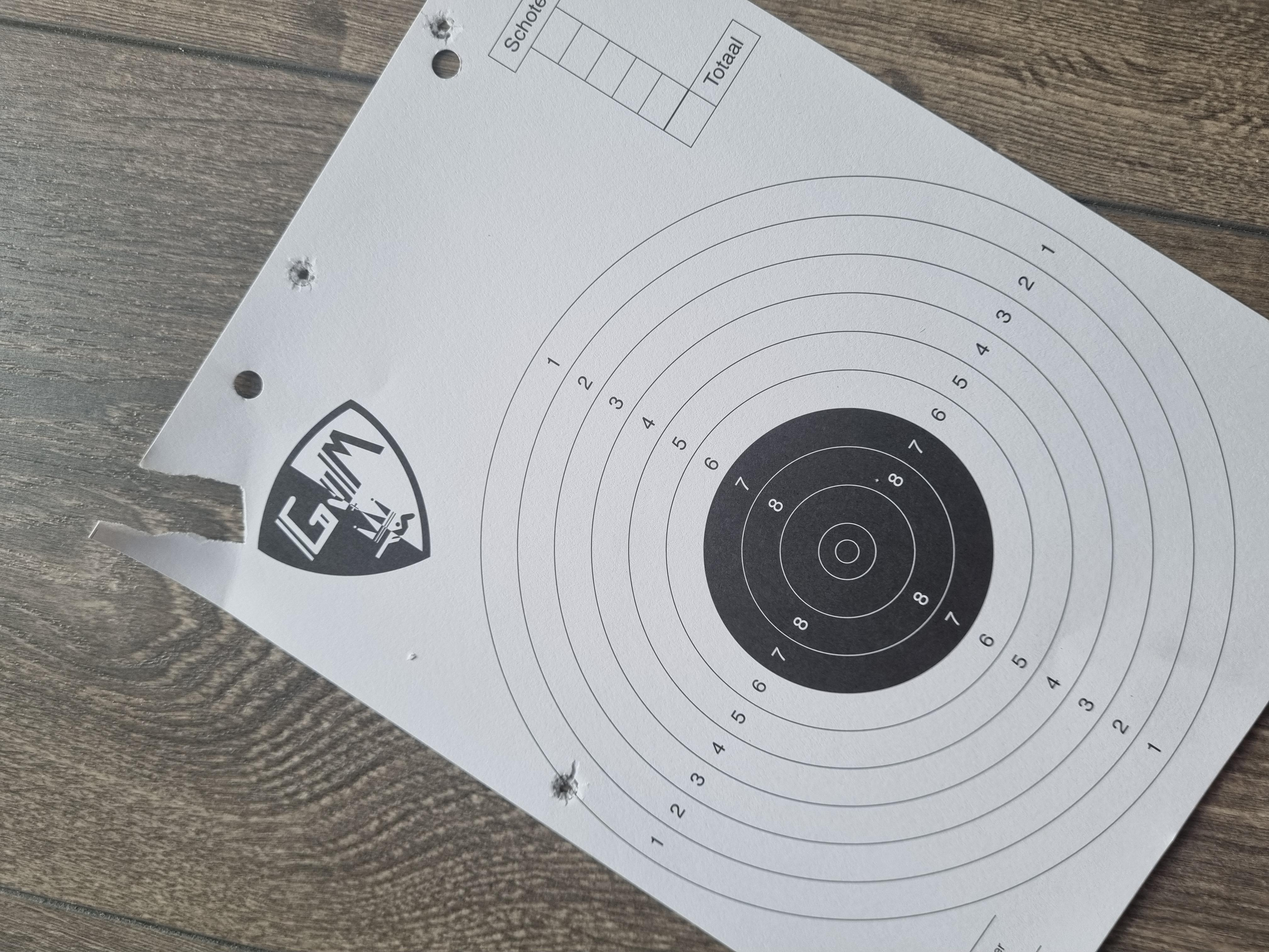hole: (874, 212, 930, 241), (1204, 316, 1258, 345), (197, 411, 249, 435)
